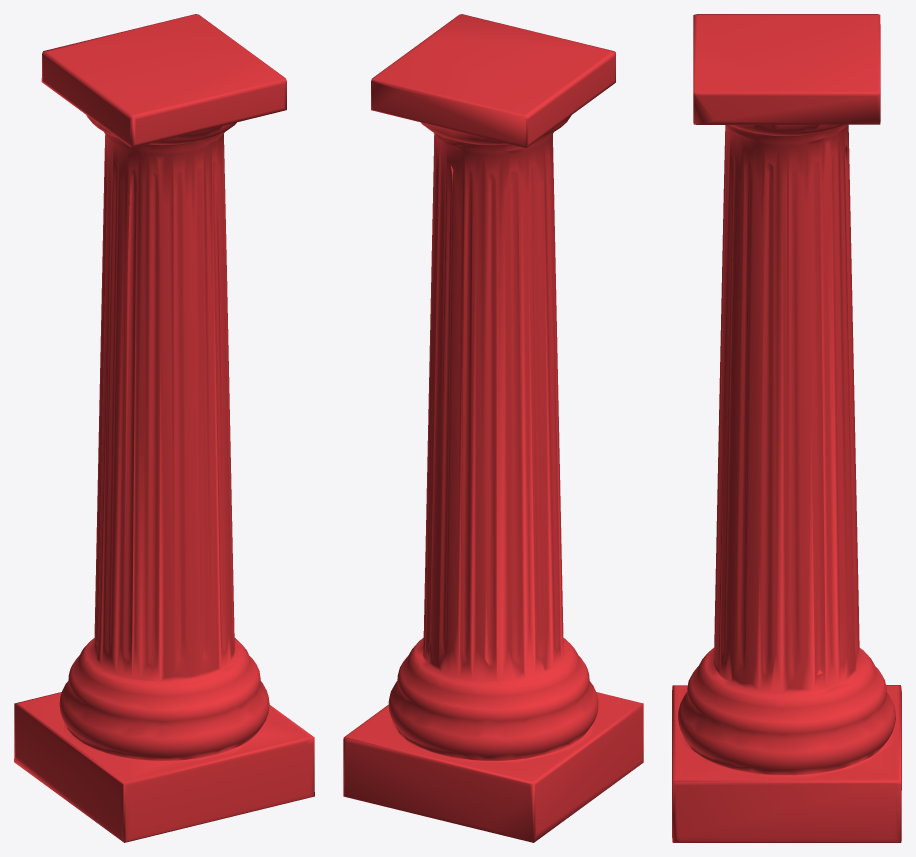
The model's file is columns_002.fbx.
3 views of the same model, side by side, from view 1: azimuth 30°, elevation 25°; view 2: azimuth 150°, elevation 25°; view 3: azimuth 270°, elevation 25° (orthographic). The views are drawn at different scales.
Parts seen in each view (by area): view 1: columns_test1; view 2: columns_test1; view 3: columns_test1.
Part boxes in pixels (x1,y1,x2,y2): columns_test1: (14,14,314,842); columns_test1: (343,14,643,842); columns_test1: (672,14,901,842).
Size of the model in its own units: 200 by 713 by 200.
